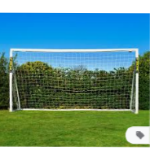goals: (7, 46, 141, 114)
